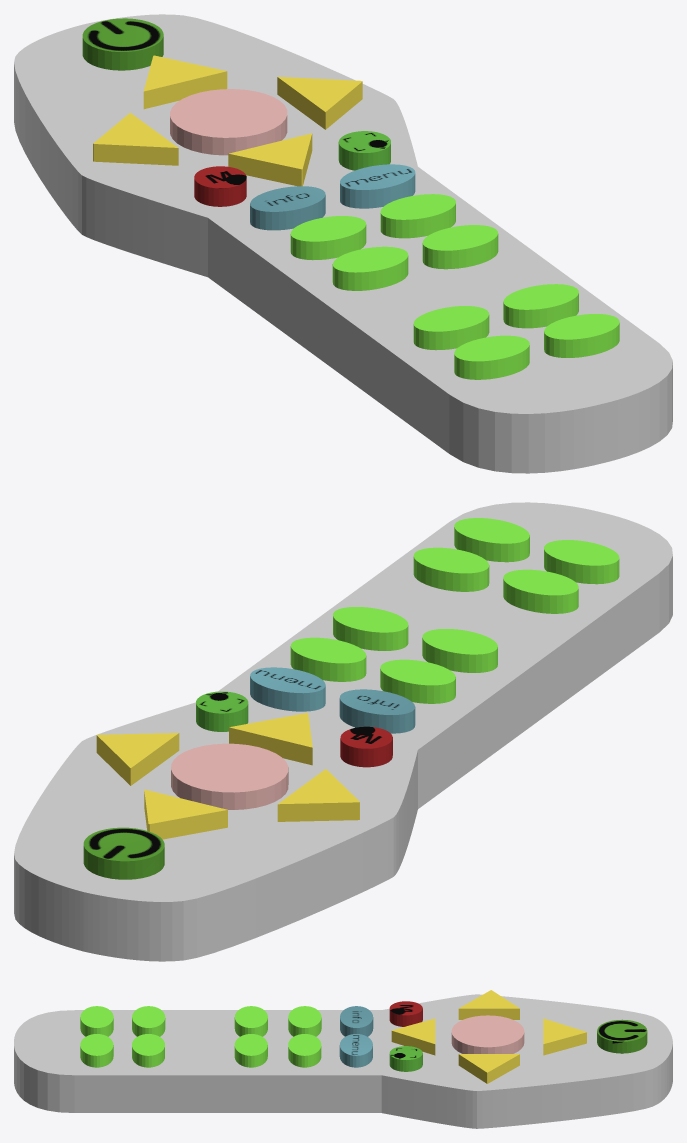
The model's file is remote4.glb.
3 renders of one model, top to bottom at view 1: azimuth 30°, elevation 25°; view 2: azimuth 150°, elevation 25°; view 3: azimuth 270°, elevation 25°, orthographic. The views are drawn at different scales.
Parts seen in each view (by area): view 1: Curve, Middle_Button, Power_Button, Prev_Proj, Next_Proj, Next_Channel, Prev_Channel, Button_3, Button 4, Button_9, Button_10, Button_1 (+7 smaller); view 2: Curve, Middle_Button, Power_Button, Next_Proj, Prev_Proj, Button_8, Prev_Channel, Menu_Button, Button_7, Button 4, Button_3, Button_2 (+7 smaller); view 3: Curve, Middle_Button, Power_Button, Next_Proj, Prev_Proj, Prev_Channel, Next_Channel, Button_2, Button 4, Button_10, Menu_Button, Button_8 (+7 smaller).
Part boxes in pixels (x1,y1,x2,y2): Curve: [14, 14, 672, 473]; Middle_Button: [170, 89, 287, 155]; Power_Button: [82, 18, 163, 70]; Prev_Proj: [93, 112, 178, 165]; Next_Proj: [277, 76, 362, 129]; Next_Channel: [228, 133, 312, 186]; Prev_Channel: [143, 55, 227, 109]; Button_3: [332, 246, 408, 290]; Button 4: [422, 225, 498, 269]; Button_9: [454, 335, 529, 379]; Button_10: [544, 314, 619, 357]; Button_1: [290, 216, 366, 260]; Curve: [14, 502, 672, 961]; Middle_Button: [171, 743, 288, 809]; Power_Button: [83, 827, 164, 879]; Next_Proj: [96, 733, 179, 785]; Prev_Proj: [277, 769, 359, 821]; Button_8: [413, 547, 489, 591]; Prev_Channel: [144, 789, 227, 839]; Menu_Button: [250, 667, 325, 711]; Button_7: [503, 569, 578, 613]; Button 4: [333, 607, 408, 650]; Button_3: [422, 629, 497, 672]; Button_2: [290, 637, 366, 681]; Curve: [14, 994, 672, 1128]; Middle_Button: [451, 1015, 524, 1053]; Power_Button: [597, 1019, 647, 1053]; Next_Proj: [458, 1054, 519, 1083]; Prev_Proj: [458, 990, 519, 1019]; Prev_Channel: [543, 1018, 586, 1055]; Next_Channel: [391, 1018, 435, 1055]; Button_2: [288, 1034, 321, 1067]; Button 4: [234, 1034, 267, 1067]; Button_10: [80, 1034, 113, 1067]; Menu_Button: [339, 1034, 372, 1067]; Button_8: [132, 1034, 164, 1067].
Size of the model in its own units: 2.51 by 0.6006 by 7.24.
Materials: 19 (5 with a texture image).
